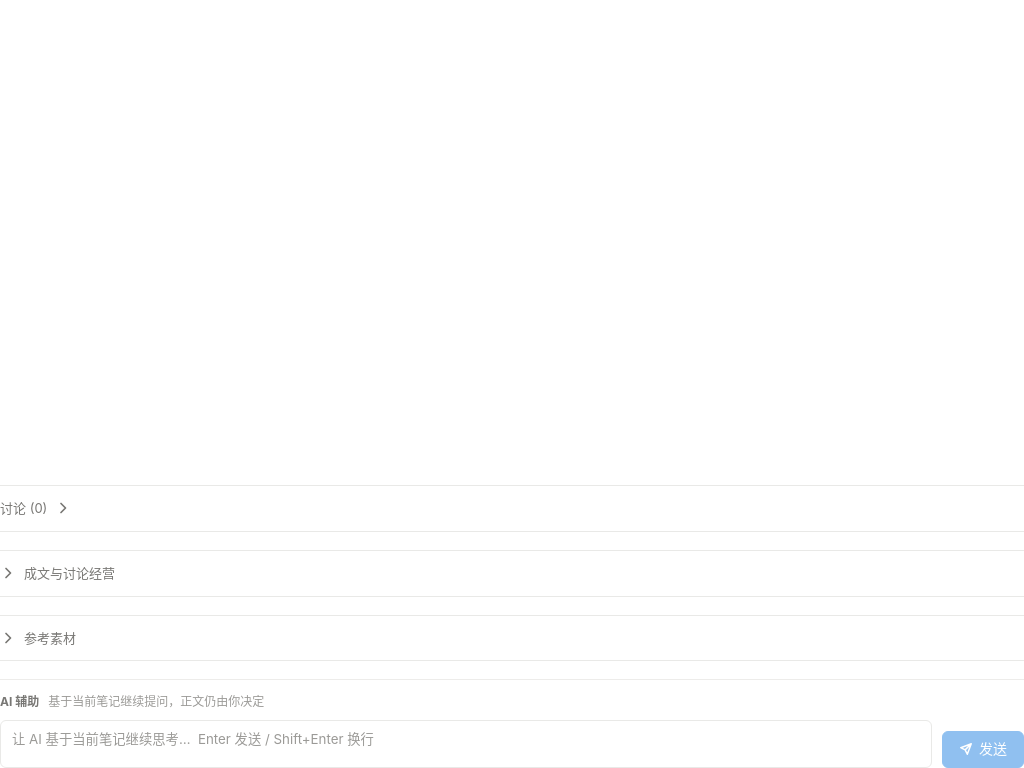
Test case: MainDoc fork flow › runs answer and route in parallel, but waits for answer done before showing RoutePrompt
The width and height of the screenshot is (1024, 768).
(page scrolled)
Step 1. Type "缓存怎么分层？" into the text box named "chat-input" → (466, 744), box [0, 720, 932, 767]
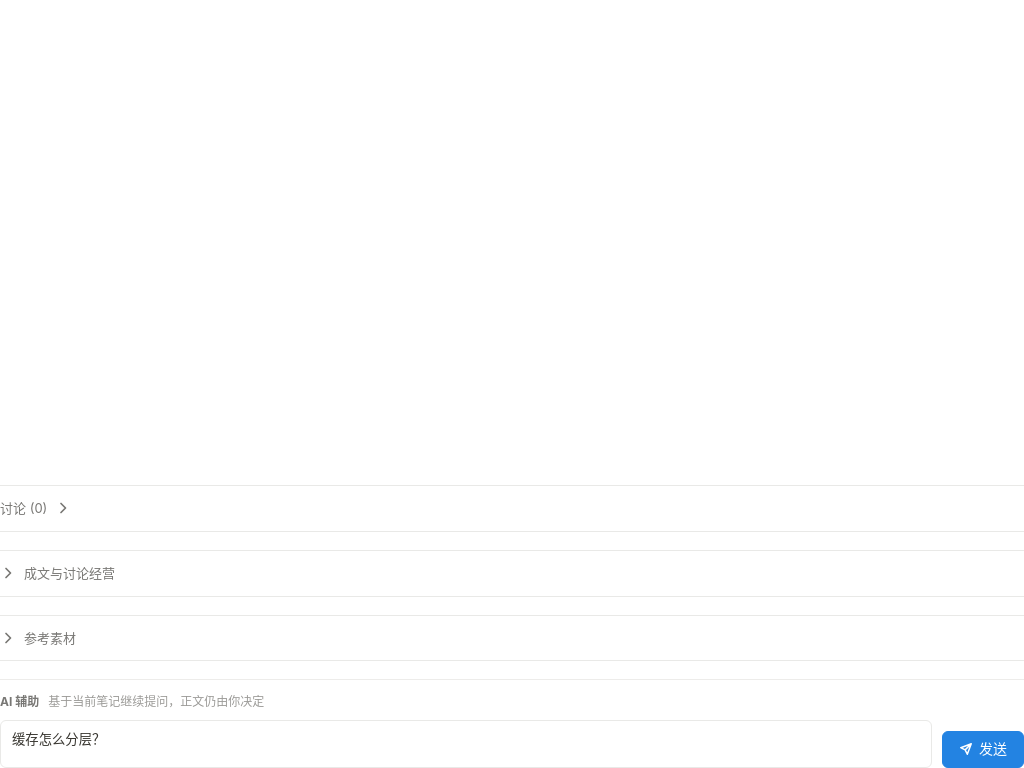
Step 2. Click the button "发送" → click(983, 749), box [942, 731, 1023, 767]
(page scrolled)
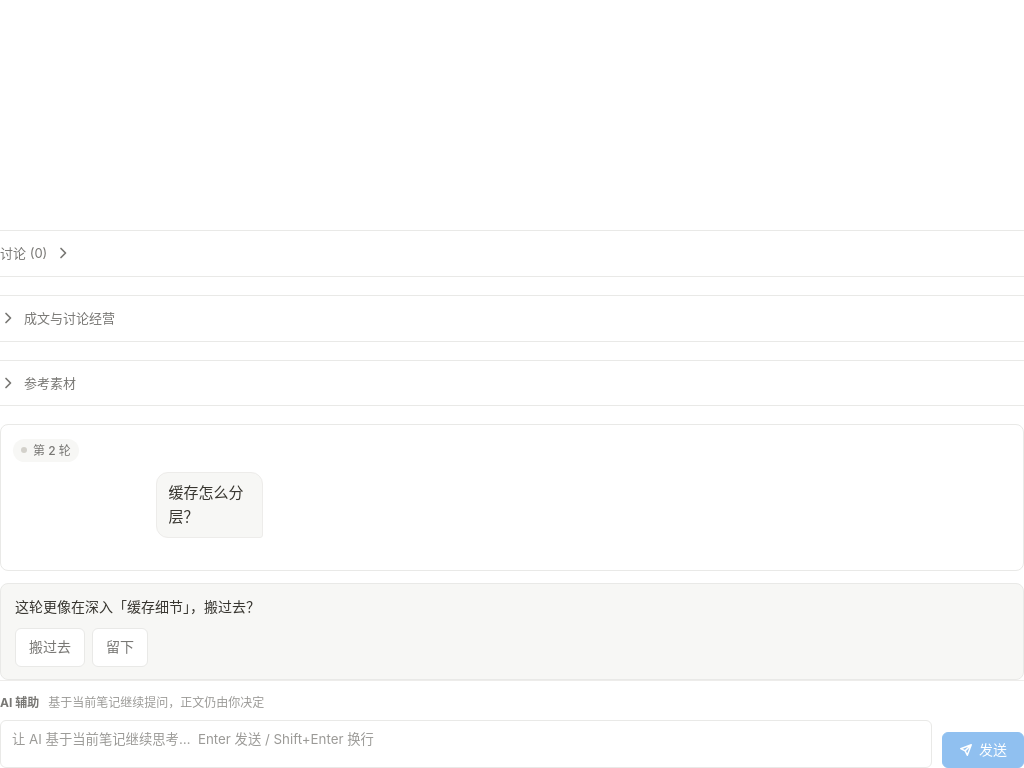
Expected: the button "搬过去" is shown, [15, 628, 85, 667]
